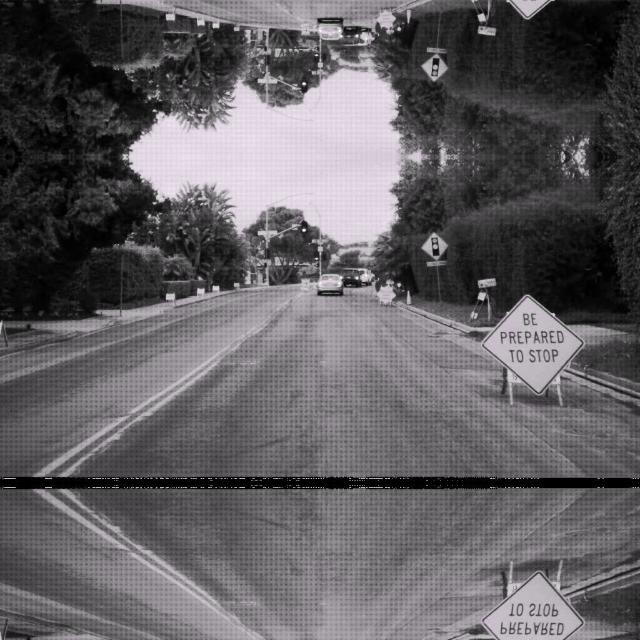signalAhead: (420, 229, 448, 259), (420, 53, 448, 83)
